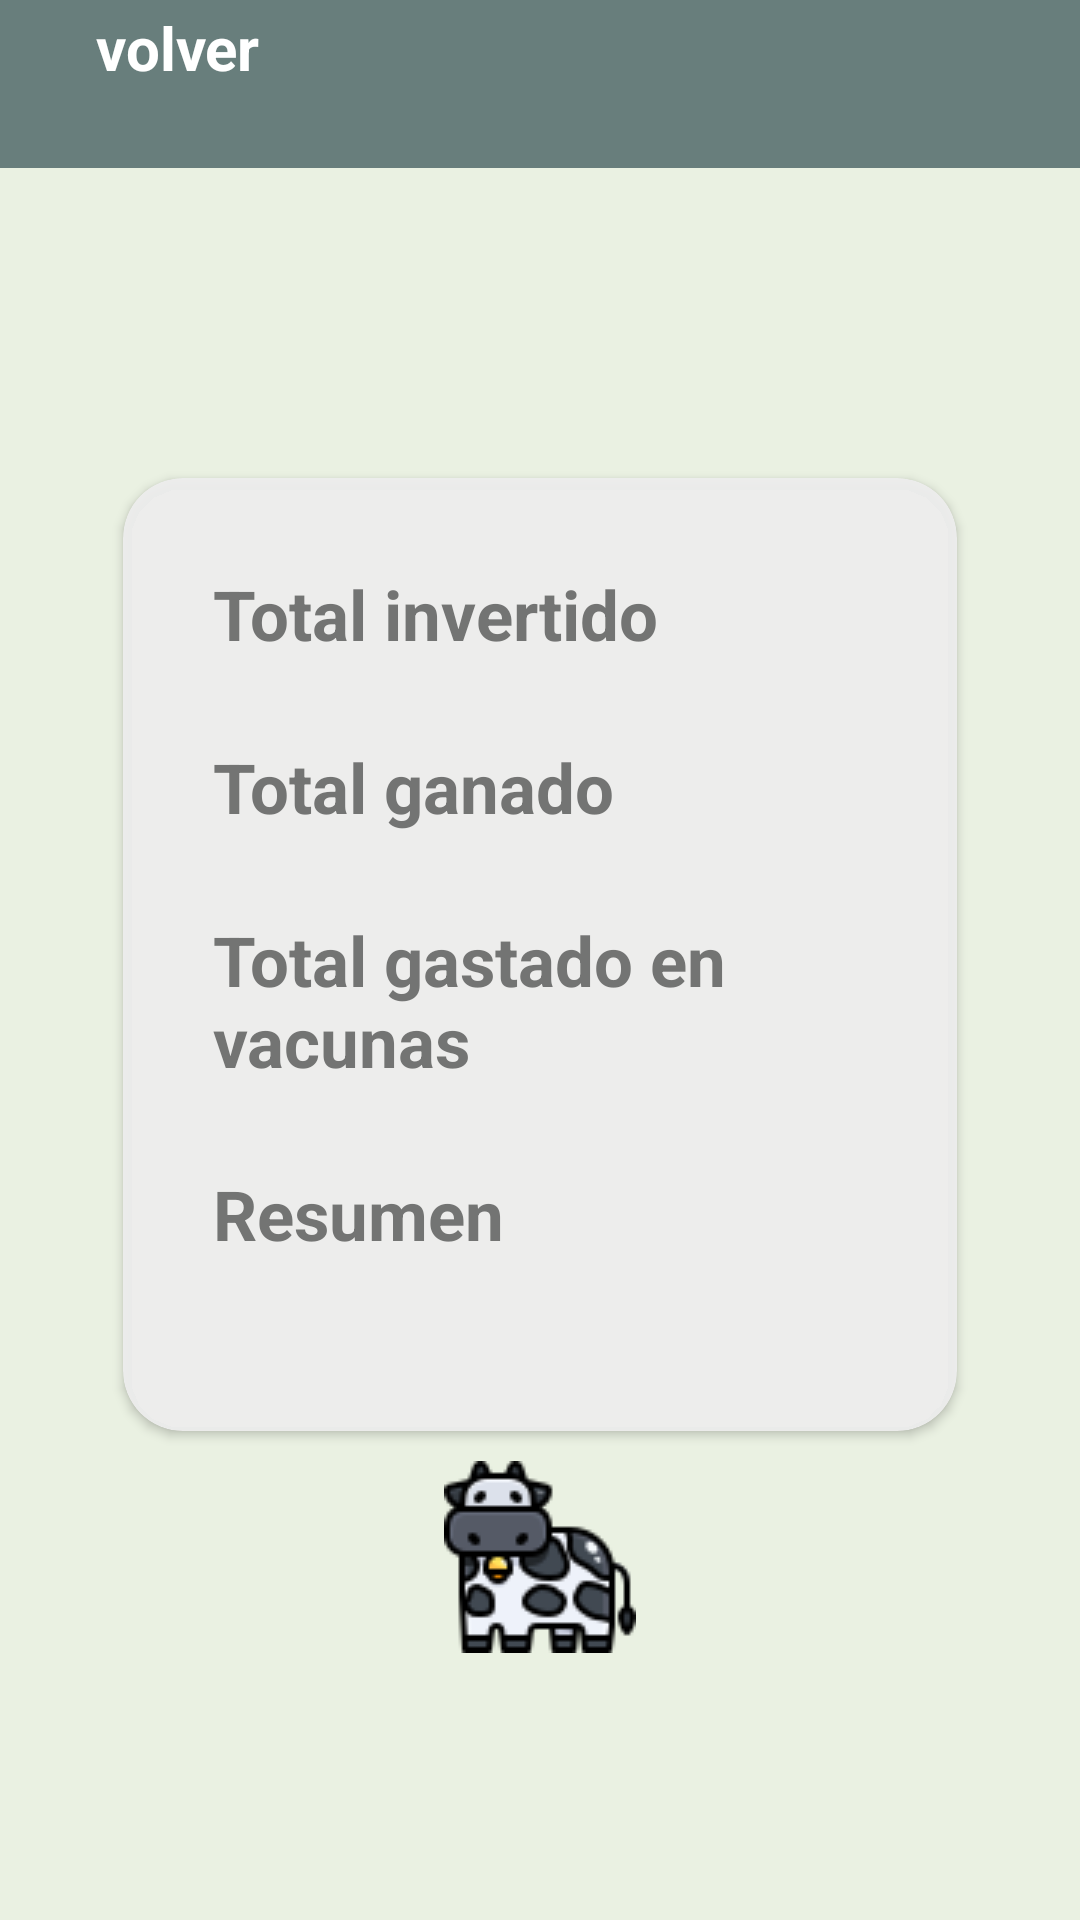

Icon click points for this 1080x1920 phone screenshot, format point (x, y):
cow: point (540, 1557)
